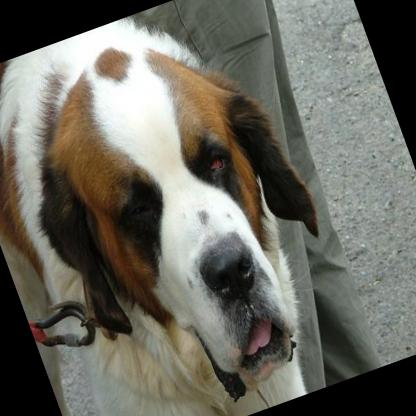Saint_Bernard: (0, 0, 375, 416)
